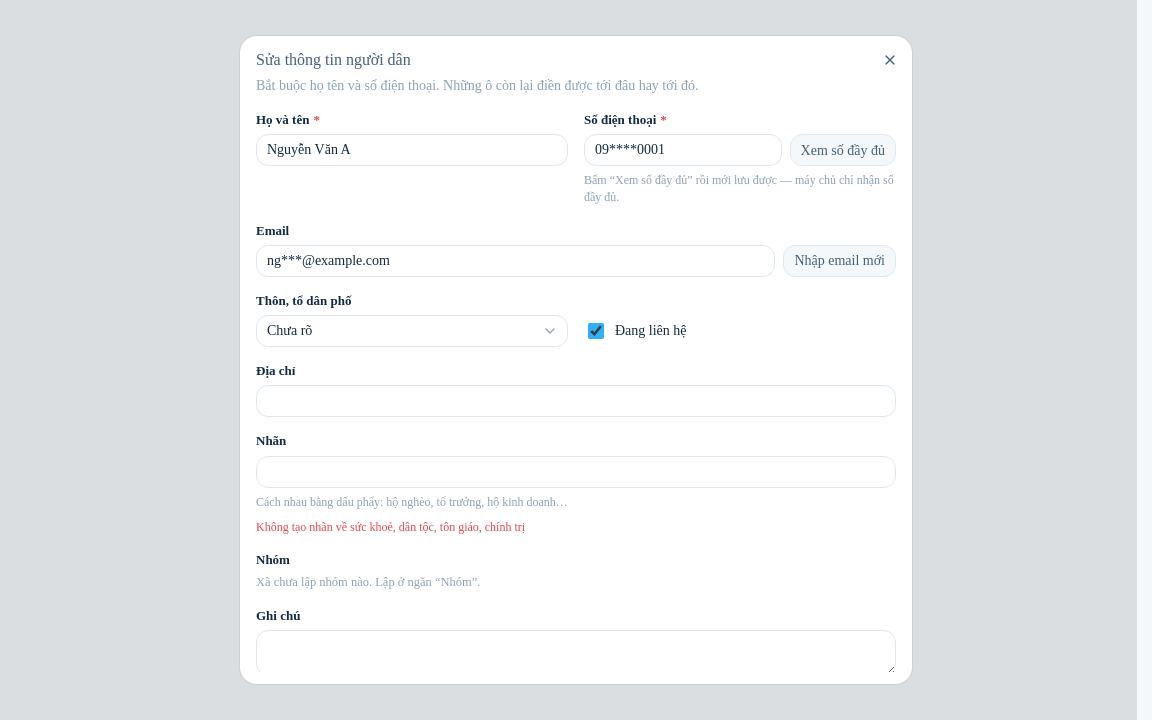
edit dialog — stored values, email mask, retired values › fills the controls from the stored values; a retired option the person holds stays ticked and labelled
Click the button with id "xem-so-day-du" at [843, 150], box [790,134,896,166]
(page scrolled)
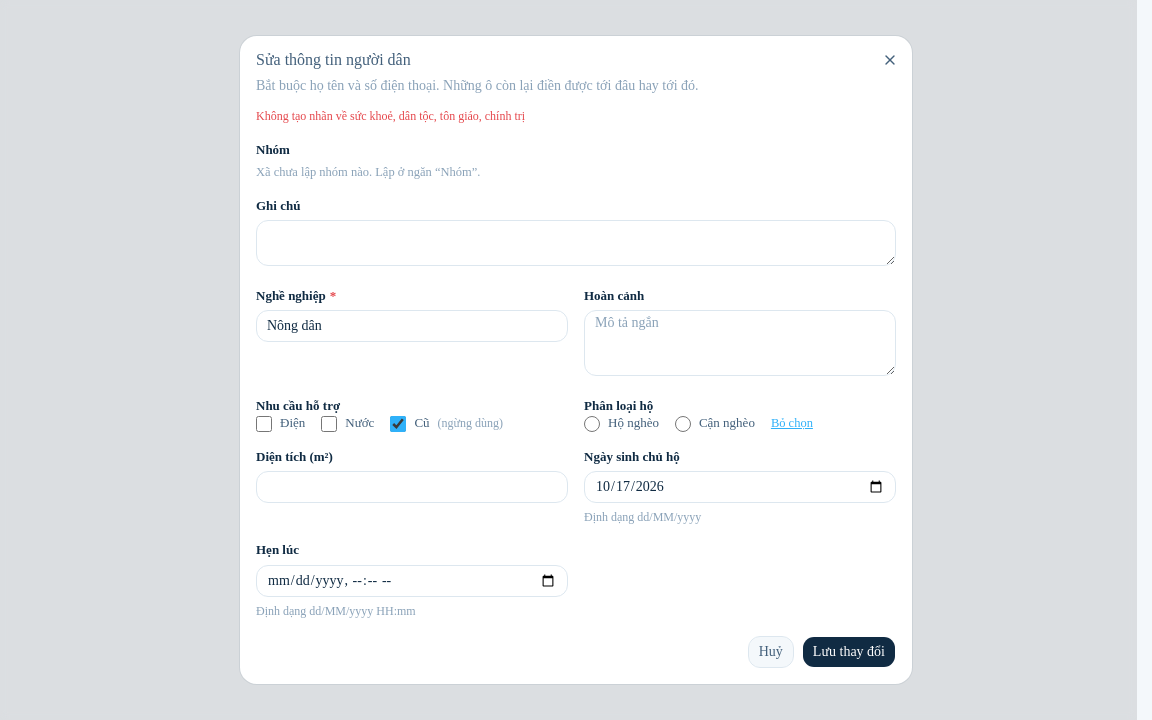
Expected: the element showing "Nhu cầu hỗ trợ Điện Nước Cũ (ngừng dùng)" is shown, [256,398,503,432]
